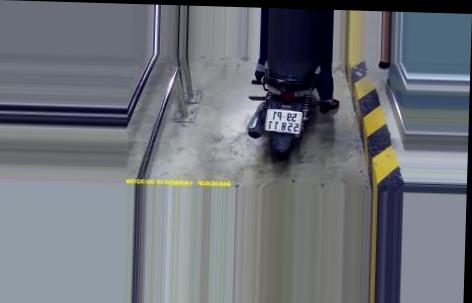License_Plate: (258, 109, 306, 134)
